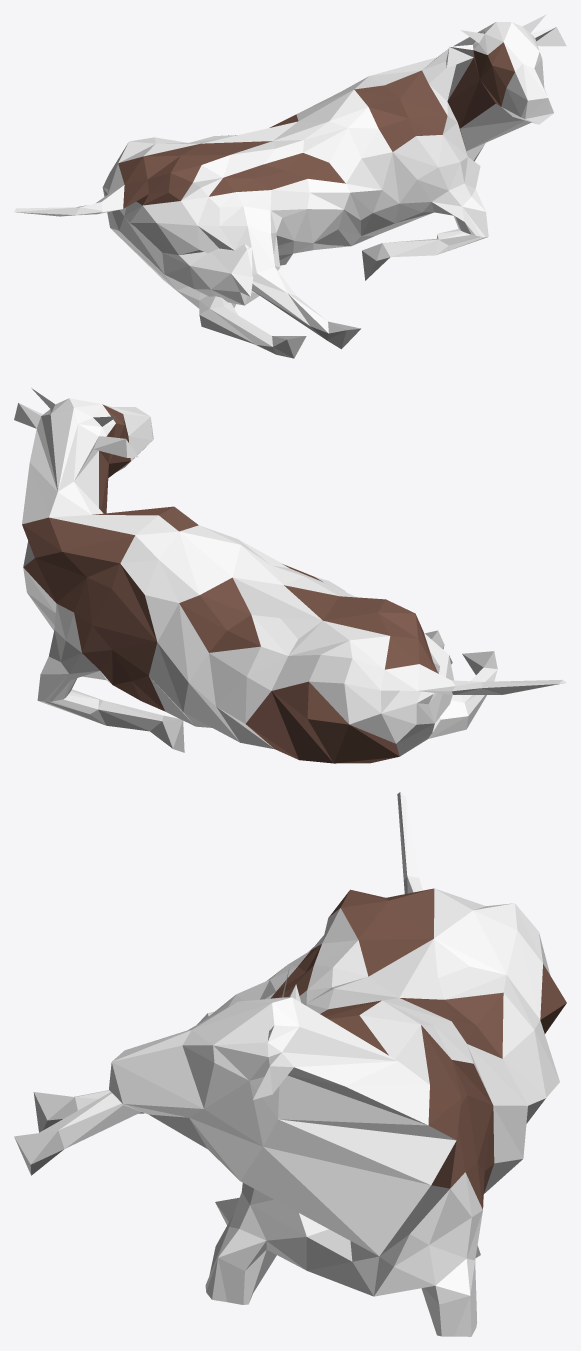
Rendered from animal_003.glb.
3 views of the same model, one above another, from view 1: azimuth 30°, elevation 25°; view 2: azimuth 150°, elevation 25°; view 3: azimuth 270°, elevation 25° (orthographic). The views are drawn at different scales.
Visible parts, largest first — view 1: animal_003; view 2: animal_003; view 3: animal_003.
Part boxes in pixels (x1=…): animal_003: x1=14, y1=14, x2=566, y2=358; animal_003: x1=14, y1=388, x2=566, y2=763; animal_003: x1=14, y1=792, x2=566, y2=1336.
Size of the model in its own units: 5.57 by 2.37 by 3.03.
Materials: 1 (1 with a texture image).
